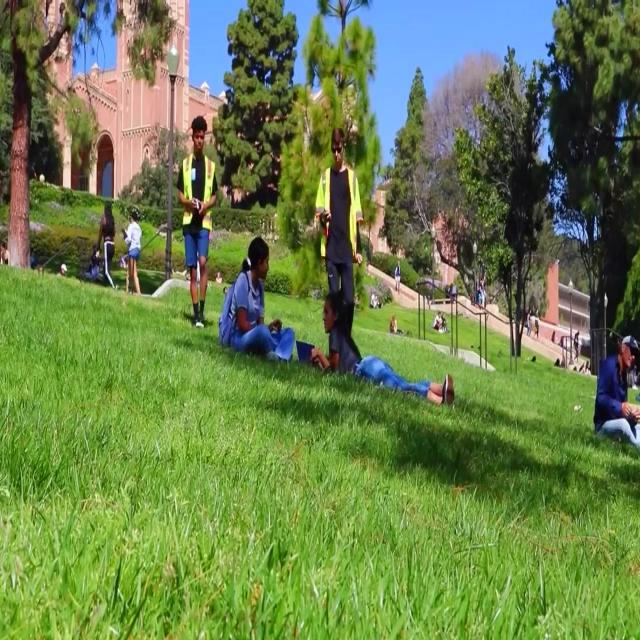Reflective-Jacket: (315, 164, 364, 268), (178, 152, 218, 243)
